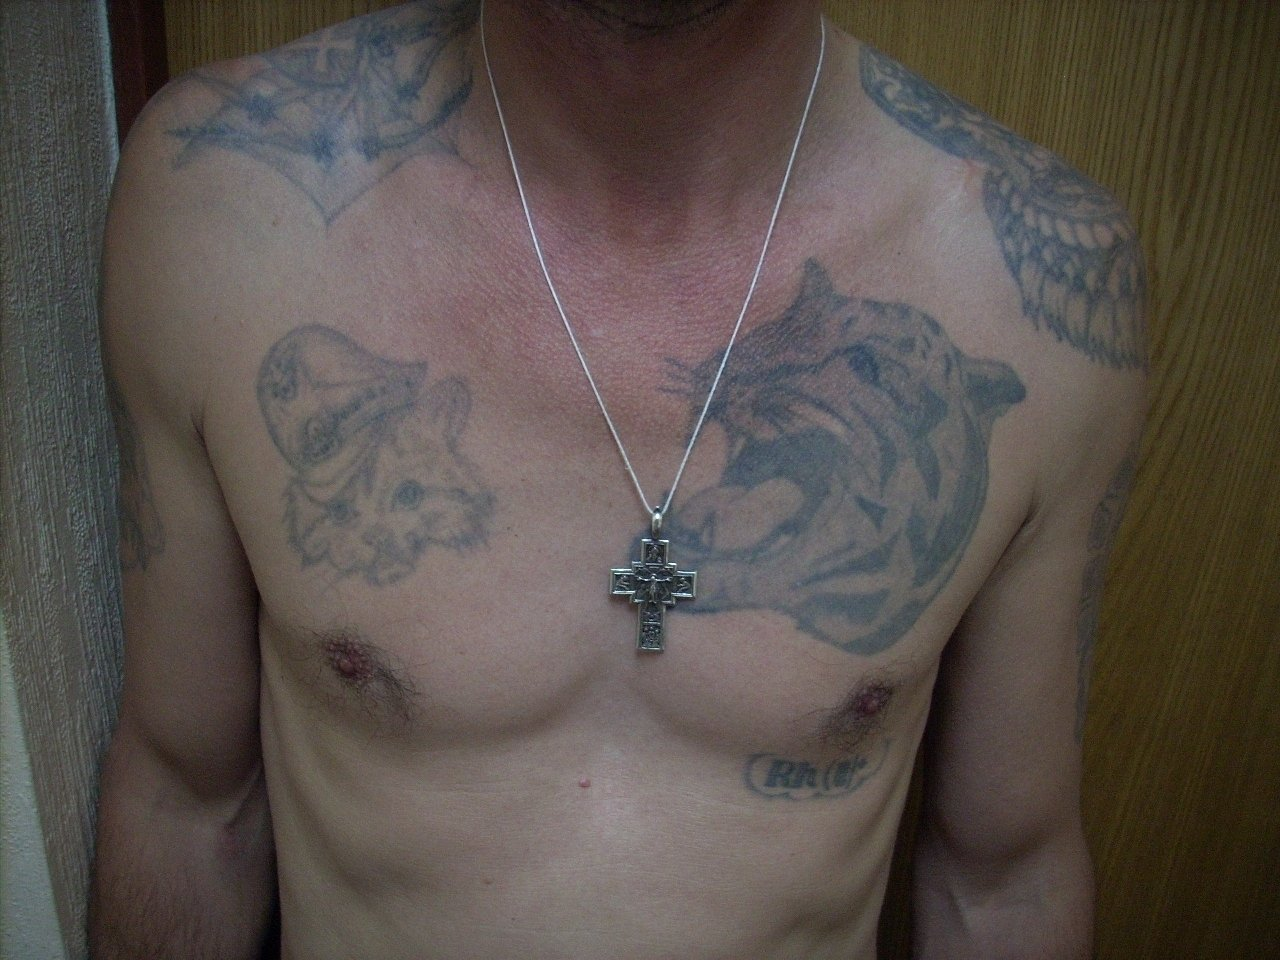tatu3_bukva: (745, 748, 880, 797)
tatu5_tigr: (686, 274, 1027, 668)
tatu8_kot: (261, 394, 496, 584)
